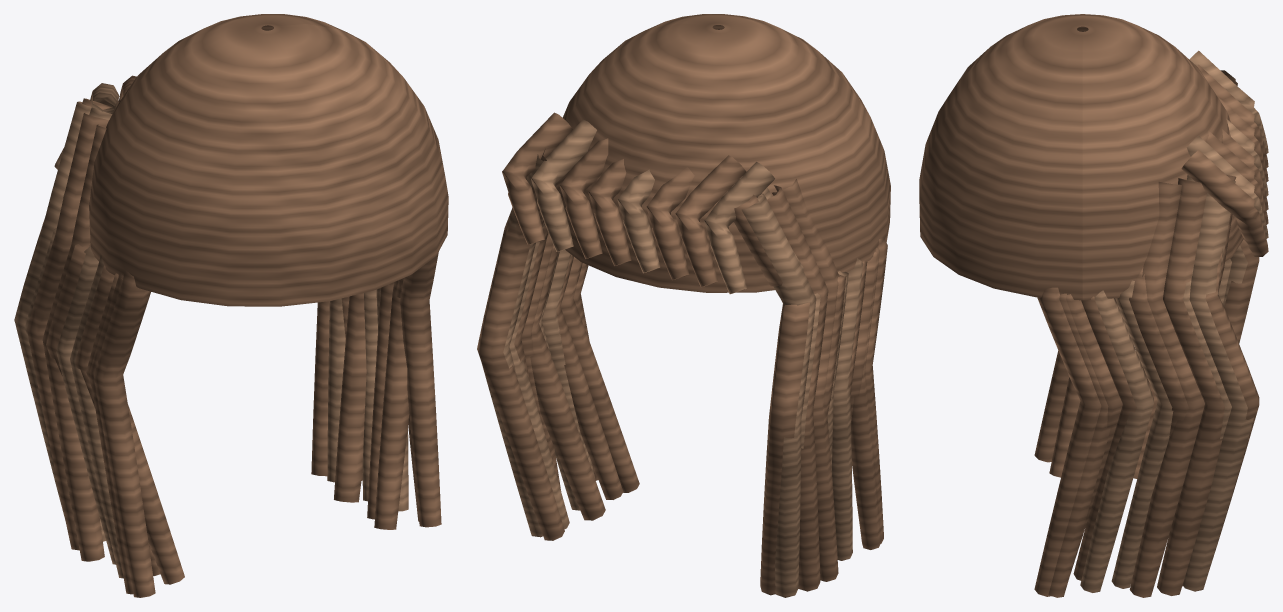
File: hair_shoulder_waves.glb
3 views of the same model, side by side, from view 1: azimuth 30°, elevation 25°; view 2: azimuth 150°, elevation 25°; view 3: azimuth 270°, elevation 25° (orthographic). The views are drawn at different scales.
Parts seen in each view (by area): view 1: hair_shoulder_waves; view 2: hair_shoulder_waves; view 3: hair_shoulder_waves.
Part boxes in pixels (x1,y1,x2,y2): hair_shoulder_waves: (14, 14, 448, 597); hair_shoulder_waves: (477, 14, 890, 597); hair_shoulder_waves: (919, 14, 1268, 597).
Bounding box in the file's own units: 0.9644 × 1.43 × 0.9067.
Materials: 2 (2 with a texture image).
